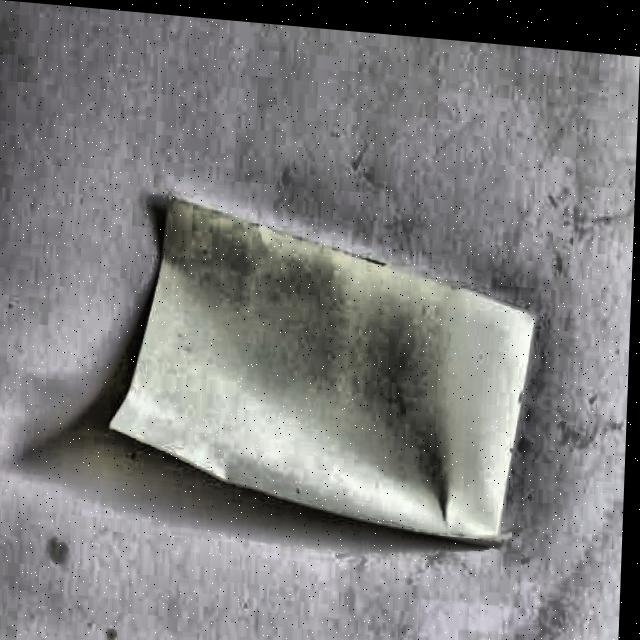paper: (104, 183, 542, 558)
